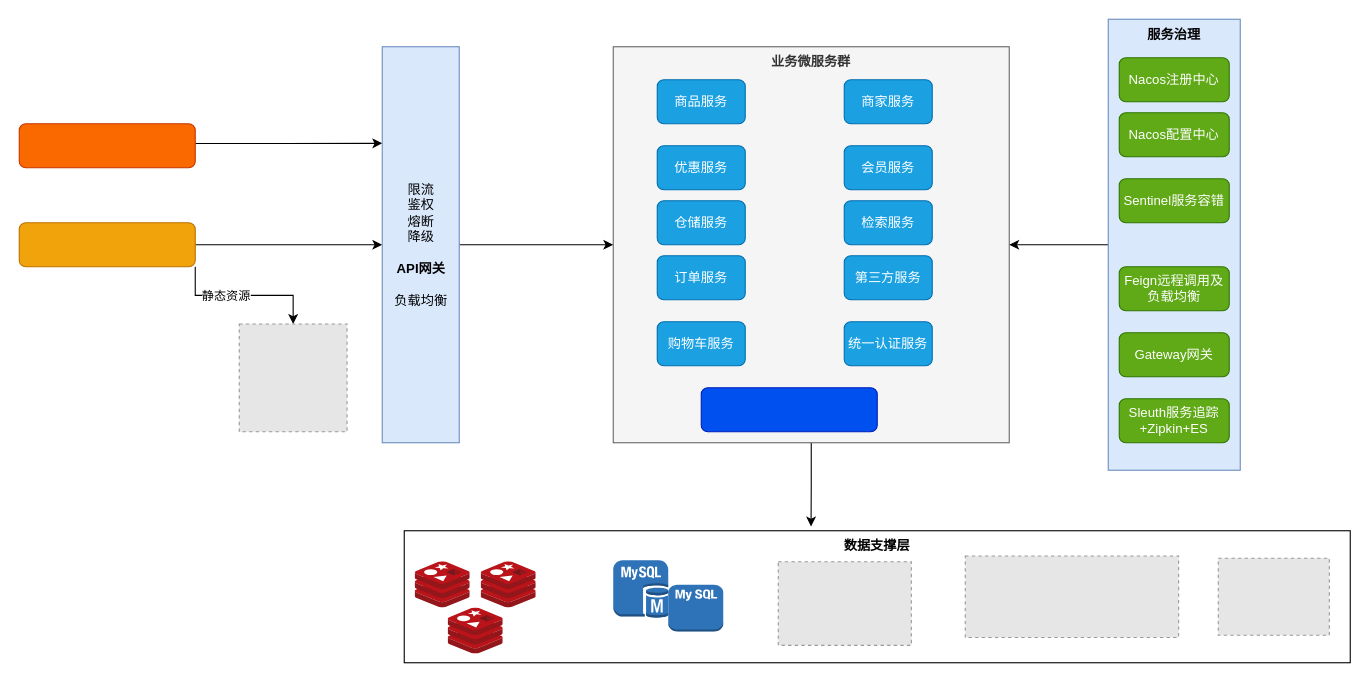
Some shapes in this 1370 by 682 pixel diagram are drawn without their labels. Grey dashed boxes stand in for pictures. Each missing label, with the centre of its shape:
"后台管理服务" belongs at (x=788, y=409).
"后台管理请求" belongs at (x=106, y=145).
"商城前端请求" belongs at (x=106, y=244).
